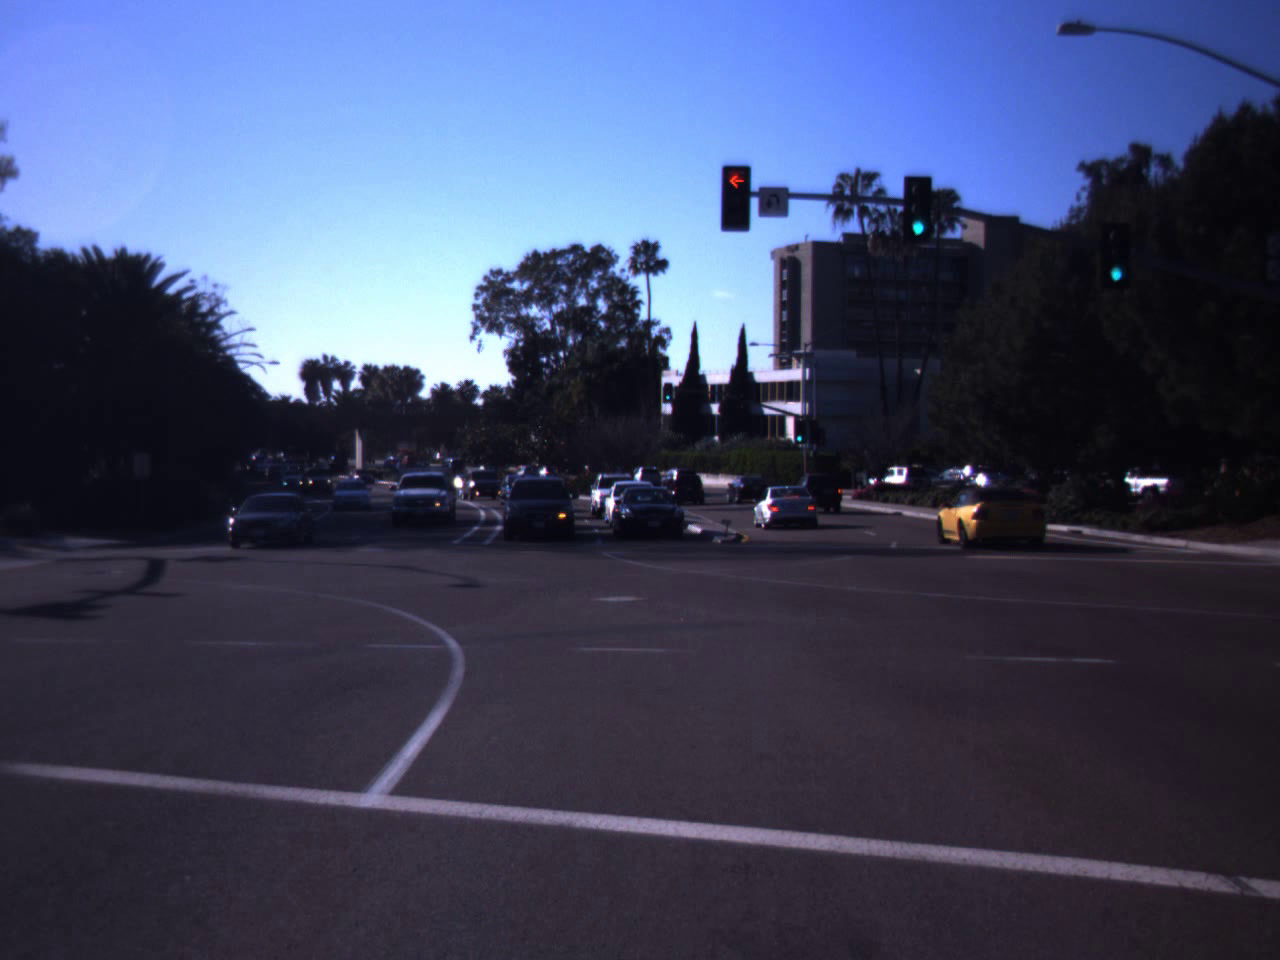go: (1096, 213, 1138, 288), (898, 175, 937, 240)
stop: (710, 163, 761, 235)
